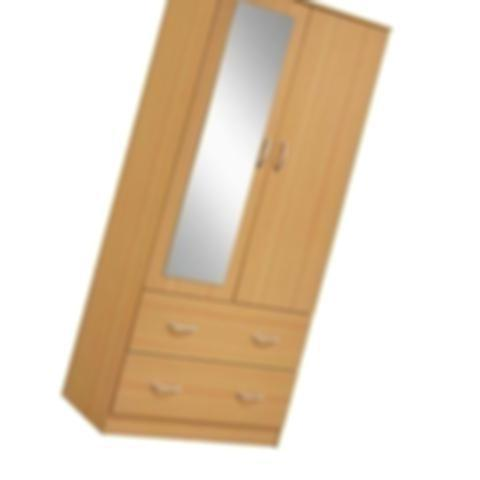Armario: (53, 2, 398, 450)
